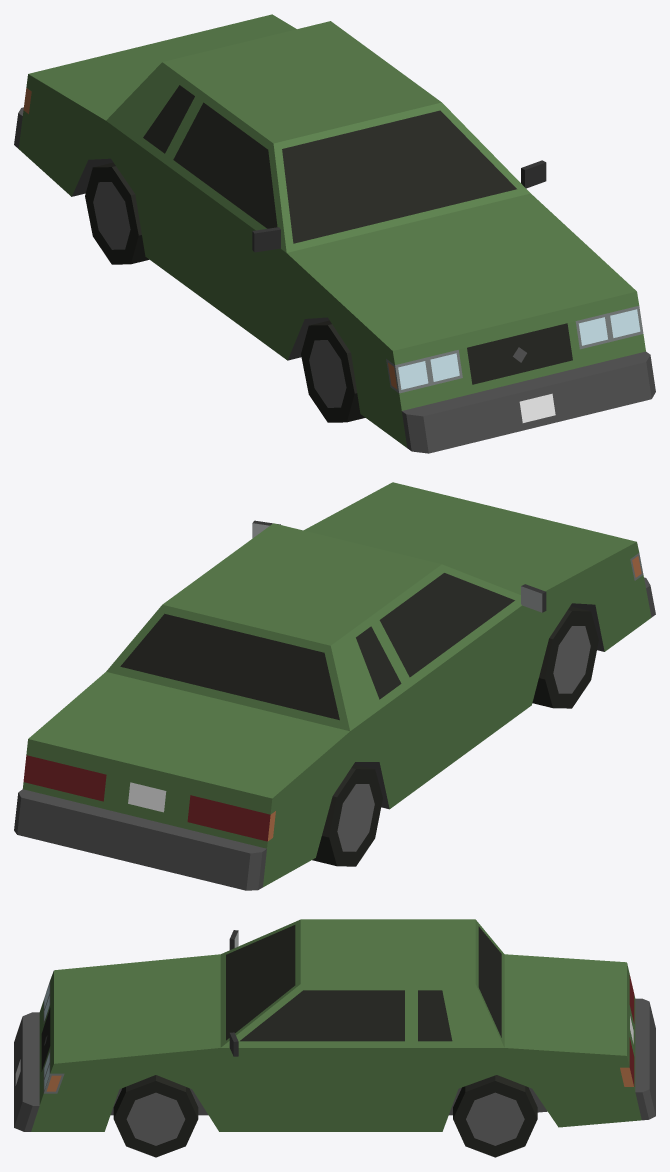
The model's file is Veh_Coupe_03_Green.glb.
The picture shows the model from 3 angles, top to bottom: view 1: azimuth 30°, elevation 25°; view 2: azimuth 150°, elevation 25°; view 3: azimuth 270°, elevation 25°; orthographic projection. The views are drawn at different scales.
Parts seen in each view (by area): view 1: Coupe_03_Green, Wheel_RR, Wheel_FR; view 2: Coupe_03_Green, Wheel_RR, Wheel_FR; view 3: Coupe_03_Green, Wheel_RL, Wheel_FL.
Boxes of the visible parts, x1,y1,x2,y2 form: Coupe_03_Green: (14,14,655,453); Wheel_RR: (85,162,149,264); Wheel_FR: (301,320,365,422); Coupe_03_Green: (14,482,655,890); Wheel_RR: (312,764,382,866); Wheel_FR: (532,606,598,708); Coupe_03_Green: (14,919,655,1131); Wheel_RL: (453,1075,537,1157); Wheel_FL: (113,1075,198,1157).
Size of the model in its own units: 1.14 by 0.7543 by 2.76.
1 material, 1 textured.
